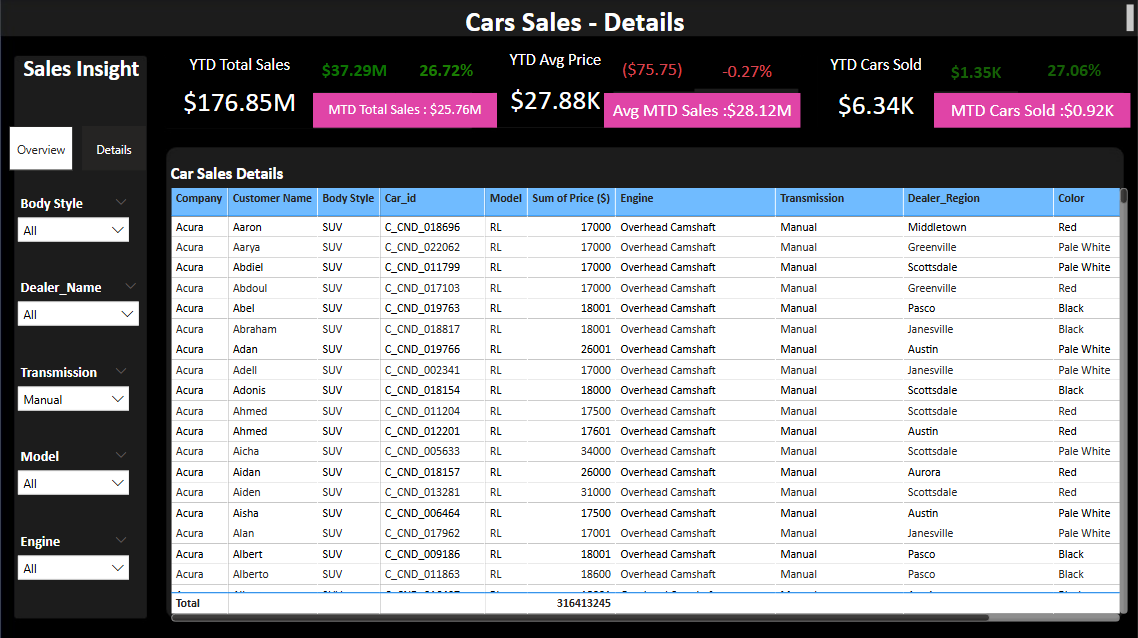

What the dashboard file says about the page in this screenshot:
{"tool":"powerbi","page":{"name":"Details","canvas":[1280,720],"ordinal":1},"visuals":[{"type":"card","title":"YTD Total Sales","fields":{"Values":["Calender Date.YTD Total Sales"]},"box":[186.3,60.4,165.8,83.5],"z":0},{"type":"card","title":"Diff","fields":{"Values":["Calender Date.Sales Difference(YTD-PYTD)"]},"box":[351.6,54.5,93.3,50.2],"z":1000},{"type":"card","title":"Diff","fields":{"Values":["Calender Date.YOY Growth"]},"box":[444.8,54.5,114.8,50.2],"z":2000},{"type":"card","fields":{"Values":["Car Sales_Measures.MTD Concat"]},"box":[352.1,104.9,207.1,38.7],"z":3000},{"type":"card","title":"YTD Avg Price","fields":{"Values":["Car Sales_Measures.Avg YTD"]},"box":[559.2,55.2,131.2,88.4],"z":4000},{"type":"card","fields":{"Values":["Car Sales_Measures.Avg Price YOY Growth"]},"box":[780.6,60.3,119.1,38.7],"z":5000},{"type":"card","fields":{"Values":["Car Sales_Measures.Avg MTD Concat"]},"box":[679.4,104.9,220.9,38.7],"z":6000},{"type":"card","fields":{"Values":["Car Sales_Measures.Avg price sales diff"]},"box":[685.9,54.5,94.7,48.8],"z":7000},{"type":"card","title":"YTD Cars Sold","fields":{"Values":["3_Car Metrix Measures.YTD CAR SOld"]},"box":[919.8,60.3,130.6,89],"z":8000},{"type":"card","fields":{"Values":["3_Car Metrix Measures.MTD Car sold concat"]},"box":[1050.4,104.8,221,38.7],"z":9000},{"type":"card","fields":{"Values":["3_Car Metrix Measures.Cars Sold Sales diff"]},"box":[1050.4,60.3,94.7,41.6],"z":10000},{"type":"card","fields":{"Values":["3_Car Metrix Measures.Cars Sold YOY Growth"]},"box":[1145.1,54.5,126.3,50.2],"z":11000},{"type":"textbox","box":[21.4,0,1258.6,44.2],"z":12000},{"type":"slicer","fields":{"Values":["car_data.Body Style"]},"box":[10.7,213.6,144.9,80.9],"z":13000},{"type":"textbox","title":"Sales Insight","box":[21.8,61.7,145.2,37.3],"z":14000},{"type":"slicer","fields":{"Values":["car_data.Dealer_Name"]},"box":[10.7,308.6,155.6,80.9],"z":16000},{"type":"slicer","fields":{"Values":["car_data.Transmission"]},"box":[10.7,403.5,144.9,80.9],"z":17000},{"type":"slicer","fields":{"Values":["car_data.Model"]},"box":[10.7,498.5,144.9,80.9],"z":18000},{"type":"slicer","fields":{"Values":["car_data.Engine"]},"box":[10.7,593.5,144.9,80.9],"z":19000},{"type":"pageNavigator","box":[10.7,141.9,155.6,50.3],"z":20000},{"type":"tableEx","title":"Car Sales Details","fields":{"Values":["car_data.Company","car_data.Customer Name","car_data.Body Style","car_data.Car_id","car_data.Model","Sum(car_data.Price ($))","car_data.Engine","car_data.Transmission","car_data.Dealer_Region","car_data.Color"]},"box":[186.8,183.4,1086.8,520.9],"z":21000}]}

Visuals, with their boxes in screenshot pixels (x1, y1, x2, y2), scaled from the page's 1280x720 canvas onto the 1138x638 screenshot:
"YTD Total Sales" card: region(166, 54, 313, 128)
"Diff" card: region(313, 48, 396, 93)
"Diff" card: region(395, 48, 498, 93)
card - Car Sales_Measures.MTD Concat: region(313, 93, 497, 127)
"YTD Avg Price" card: region(497, 49, 614, 127)
card - Car Sales_Measures.Avg Price YOY Growth: region(694, 53, 800, 88)
card - Car Sales_Measures.Avg MTD Concat: region(604, 93, 800, 127)
card - Car Sales_Measures.Avg price sales diff: region(610, 48, 694, 92)
"YTD Cars Sold" card: region(818, 53, 934, 132)
card - 3_Car Metrix Measures.MTD Car sold concat: region(934, 93, 1130, 127)
card - 3_Car Metrix Measures.Cars Sold Sales diff: region(934, 53, 1018, 90)
card - 3_Car Metrix Measures.Cars Sold YOY Growth: region(1018, 48, 1130, 93)
textbox: region(19, 0, 1137, 39)
slicer - car_data.Body Style: region(10, 189, 138, 261)
"Sales Insight" textbox: region(19, 55, 148, 88)
slicer - car_data.Dealer_Name: region(10, 273, 148, 345)
slicer - car_data.Transmission: region(10, 358, 138, 429)
slicer - car_data.Model: region(10, 442, 138, 513)
slicer - car_data.Engine: region(10, 526, 138, 598)
pageNavigator: region(10, 126, 148, 170)
"Car Sales Details" tableEx: region(166, 163, 1132, 624)
